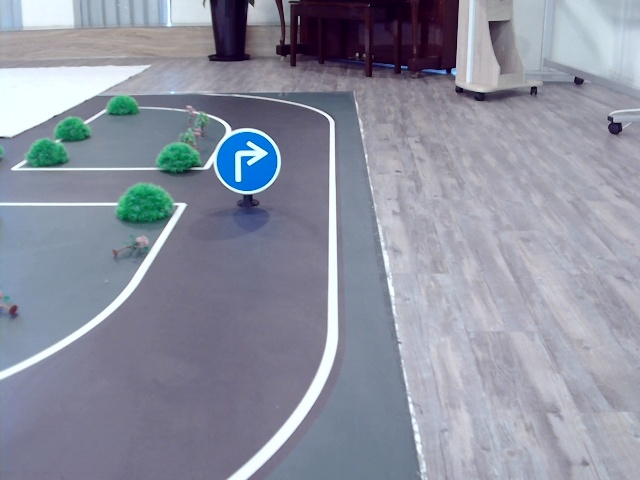turn_right: (230, 137, 266, 186)
